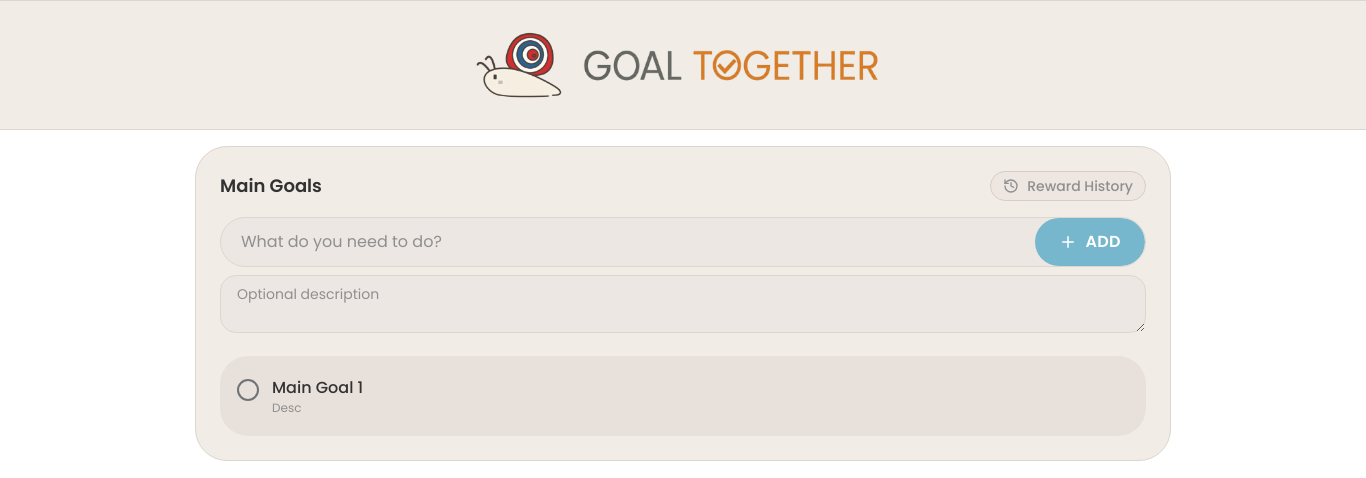
it: tasks context gating › opens tasks from selected sub goal
This screenshot has width=1366, height=478.
Click the button "Main Goal 1 Desc".
click(318, 388)  # box [236,368,1130,424]
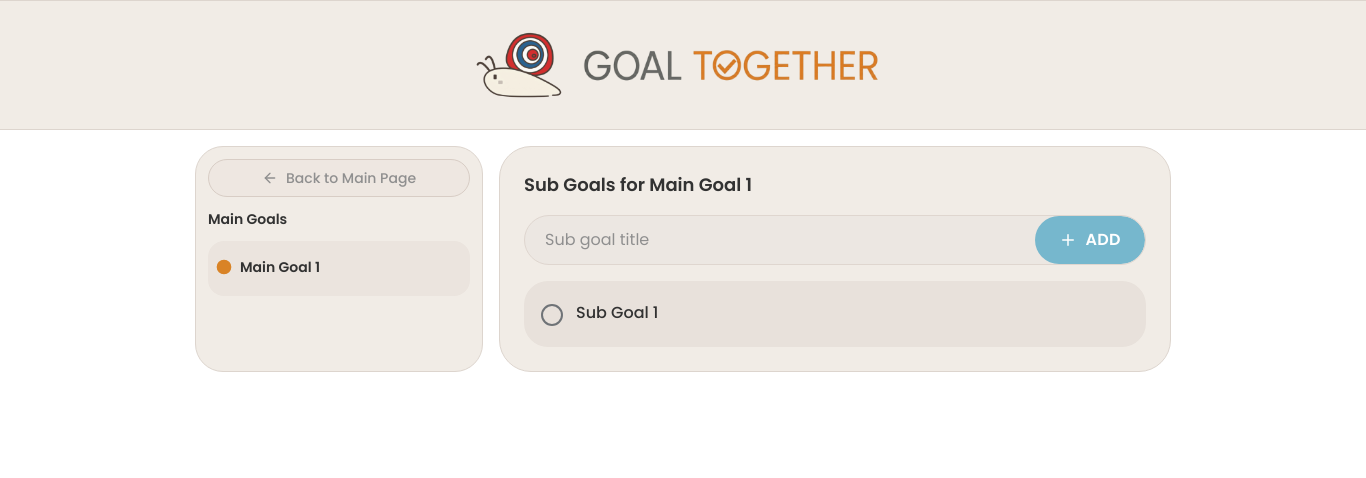
Result: the heading "Sub Goals for Main Goal 1" is shown at [524,172,752,197]
Click the button "Sub Goal 1".
click(617, 312)  # box [540,293,1130,335]
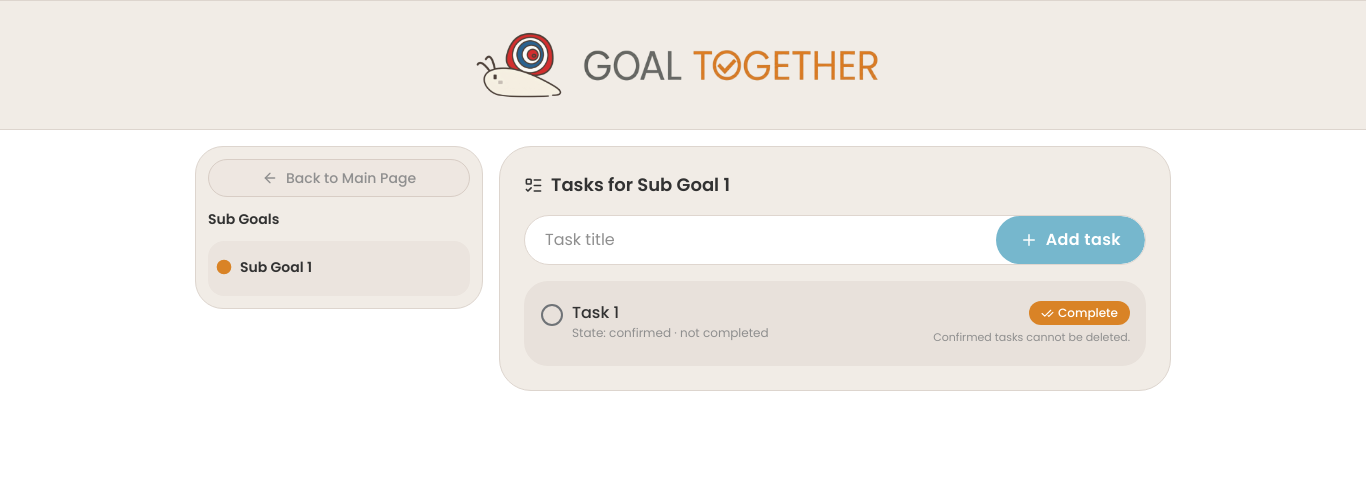
Result: the heading "Tasks for Sub Goal 1" is shown at [524,171,730,199]
